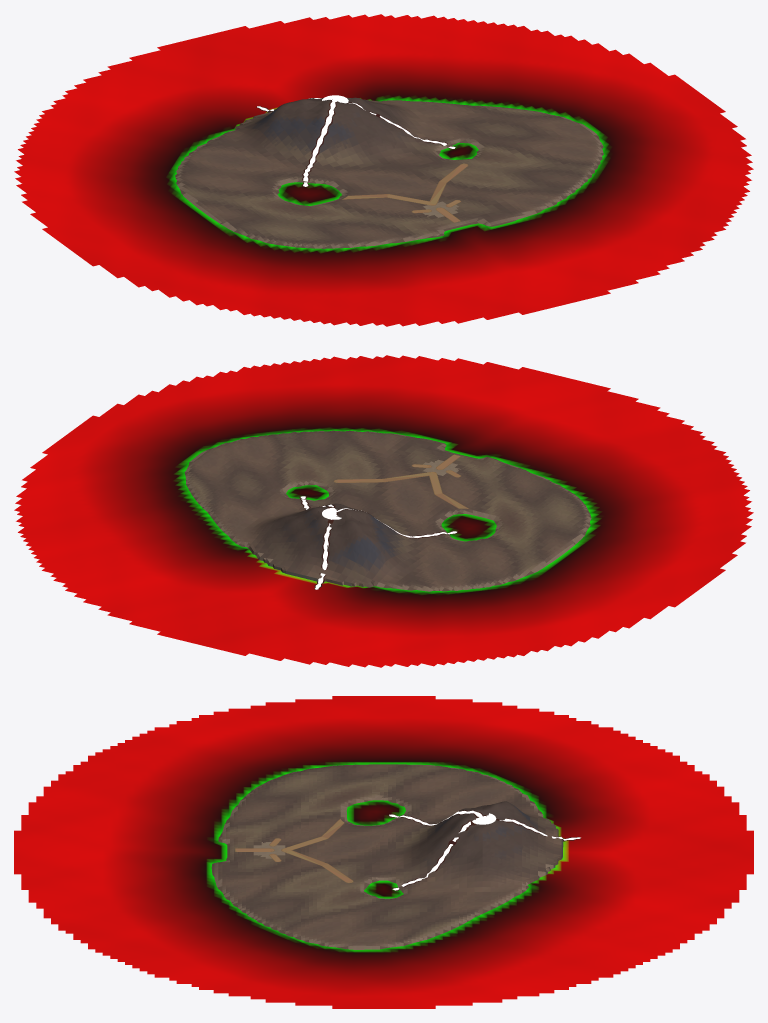
The model's file is zone_ember.glb.
3 views of the same model, one above another, from view 1: azimuth 30°, elevation 25°; view 2: azimuth 150°, elevation 25°; view 3: azimuth 270°, elevation 25° (orthographic).
Visible parts, largest first — view 1: water, terrain_1_1__lod, terrain_1_1, terrain_2_1, terrain_0_1, terrain_0_1__lod, terrain_2_1__lod, terrain_1_2__lod, terrain_1_2, terrain_1_0__lod, terrain_1_0, terrain_2_2 (+7 smaller); view 2: water, terrain_1_1__lod, terrain_2_1, terrain_1_1, terrain_1_0__lod, terrain_0_1, terrain_1_0, terrain_0_1__lod, terrain_2_1__lod, terrain_1_2__lod, terrain_1_2, paths (+6 smaller); view 3: water, terrain_1_1__lod, terrain_1_1, terrain_2_1, terrain_0_1, terrain_2_1__lod, terrain_0_1__lod, terrain_1_0__lod, terrain_1_0, terrain_1_2__lod, terrain_1_2, terrain_2_2 (+7 smaller).
Boxes of the visible parts, <box> form: water: <box>14,14,753,326</box>; terrain_1_1__lod: <box>251,101,516,222</box>; terrain_1_1: <box>254,97,514,224</box>; terrain_2_1: <box>424,104,602,183</box>; terrain_0_1: <box>175,153,347,243</box>; terrain_0_1__lod: <box>175,154,346,244</box>; terrain_2_1__lod: <box>420,104,603,180</box>; terrain_1_2__lod: <box>348,183,545,245</box>; terrain_1_2: <box>349,185,547,244</box>; terrain_1_0__lod: <box>223,97,419,152</box>; terrain_1_0: <box>224,97,410,148</box>; terrain_2_2: <box>521,165,598,207</box>; water: <box>14,355,753,667</box>; terrain_1_1__lod: <box>251,453,516,565</box>; terrain_2_1: <box>187,435,347,522</box>; terrain_1_1: <box>258,453,516,563</box>; terrain_1_0__lod: <box>232,510,419,588</box>; terrain_0_1: <box>420,494,590,585</box>; terrain_1_0: <box>235,510,408,587</box>; terrain_0_1__lod: <box>421,494,591,585</box>; terrain_2_1__lod: <box>184,435,343,524</box>; terrain_1_2__lod: <box>349,433,542,493</box>; terrain_1_2: <box>355,432,539,493</box>; paths: <box>333,454,468,508</box>; water: <box>14,696,753,1008</box>; terrain_1_1__lod: <box>285,806,482,893</box>; terrain_1_1: <box>285,806,482,893</box>; terrain_2_1: <box>285,892,482,947</box>; terrain_0_1: <box>285,764,482,808</box>; terrain_2_1__lod: <box>285,892,482,949</box>; terrain_0_1__lod: <box>285,764,482,810</box>; terrain_1_0__lod: <box>482,805,563,893</box>; terrain_1_0: <box>482,801,562,892</box>; terrain_1_2__lod: <box>211,808,285,892</box>; terrain_1_2: <box>212,808,285,893</box>; terrain_2_2: <box>223,892,285,933</box>.
Bounding box in the file's own units: 300 × 21.42 × 300.
